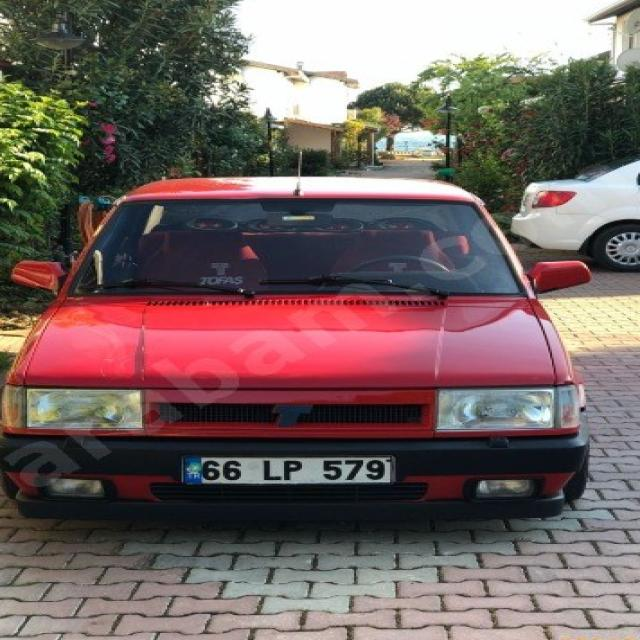license_plate: (182, 455, 396, 484)
